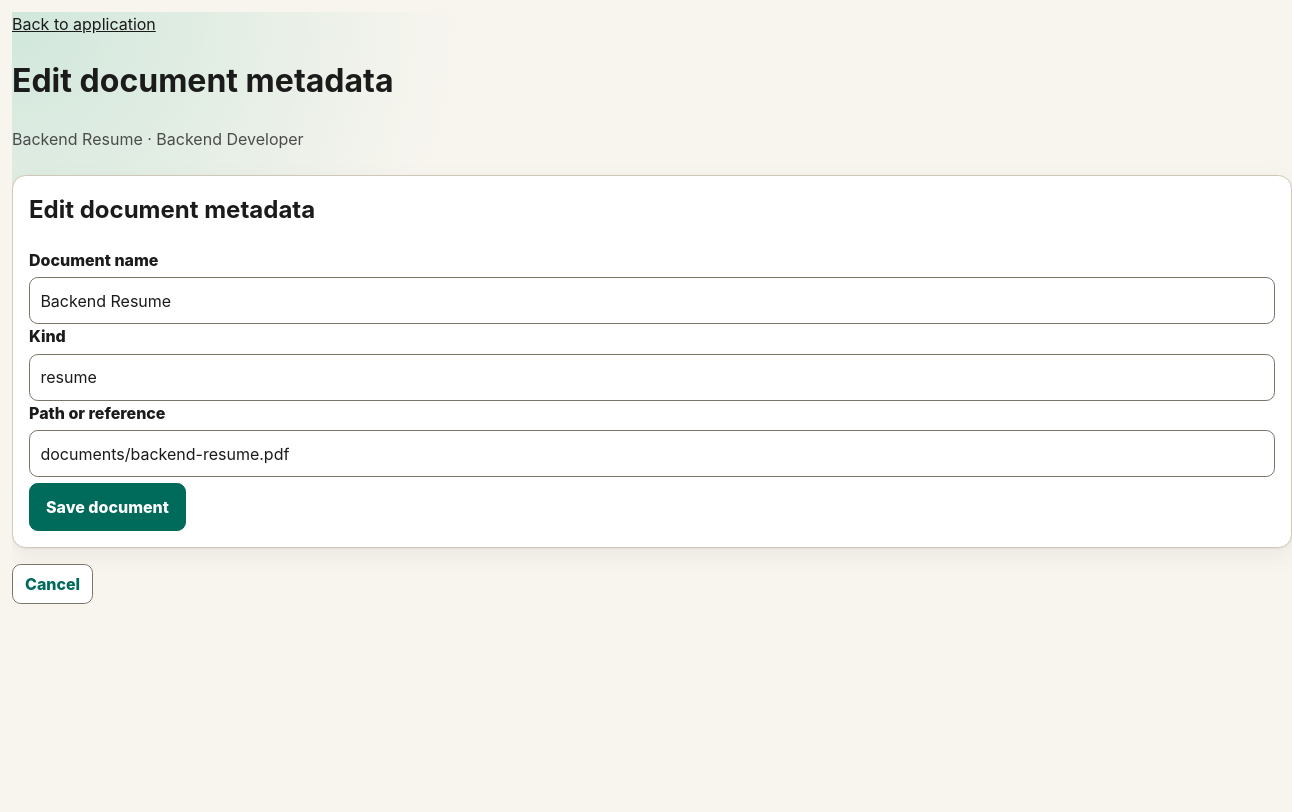
Scenario: DocumentEditPage › shows an error when update fails
Expected: the heading "Edit document metadata" below "Back to application" is shown, [12,61,394,100]
Click the button "Save document". click: click(107, 507)
box: [29,482,186,531]
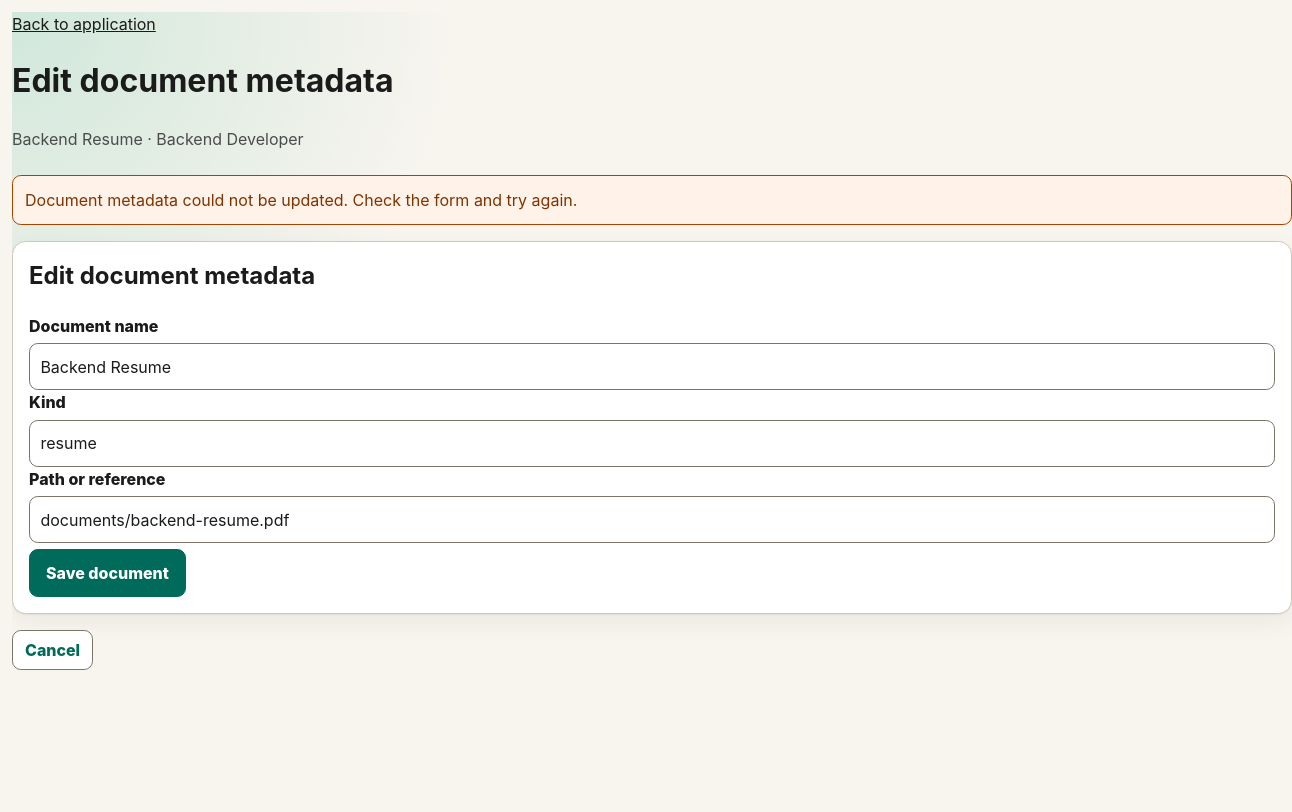
Expected: the message reads "Document metadata could not be updated. Check the form and try again.", [25,190,577,210]
